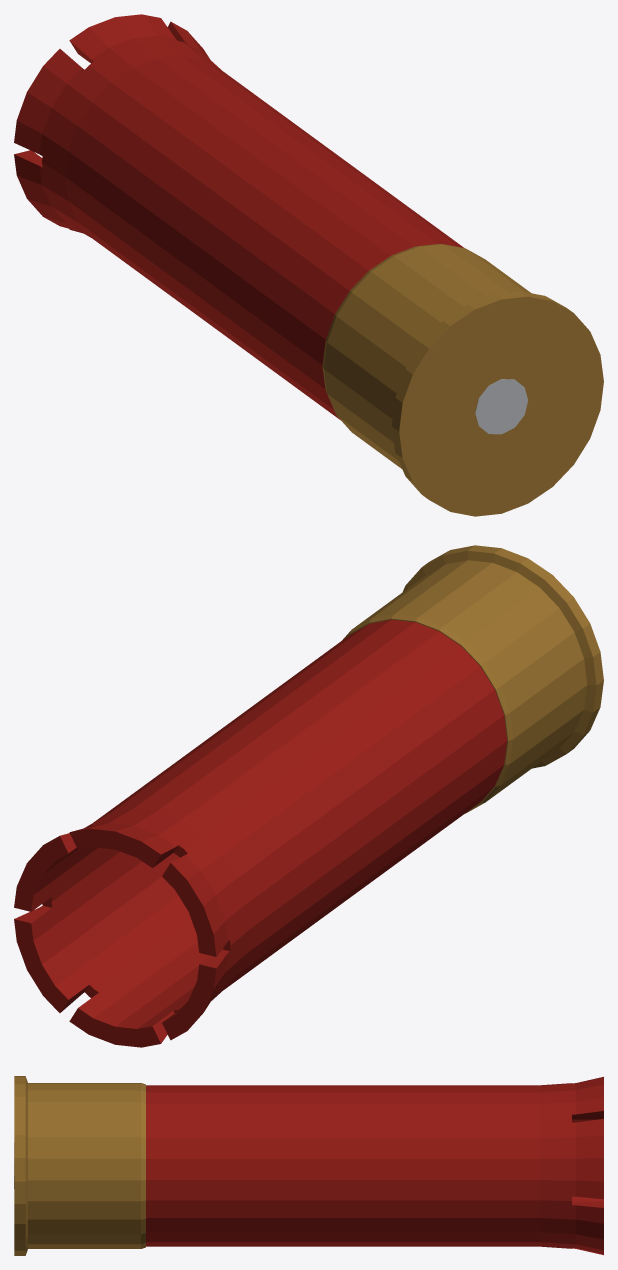
The model's file is estojo_12.glb.
3 views of the same model, one above another, from view 1: azimuth 30°, elevation 25°; view 2: azimuth 150°, elevation 25°; view 3: azimuth 270°, elevation 25° (orthographic). The views are drawn at different scales.
Parts seen in each view (by area): view 1: estojo_12_casca_vermelha, estojo_12_latao, estojo_12_aco_inox; view 2: estojo_12_casca_vermelha, estojo_12_latao; view 3: estojo_12_casca_vermelha, estojo_12_latao.
Part boxes in pixels (bbox=[...]): estojo_12_casca_vermelha: bbox=[14, 14, 464, 419]; estojo_12_latao: bbox=[322, 244, 603, 516]; estojo_12_aco_inox: bbox=[475, 379, 528, 434]; estojo_12_casca_vermelha: bbox=[14, 619, 507, 1047]; estojo_12_latao: bbox=[342, 545, 603, 813]; estojo_12_casca_vermelha: bbox=[146, 1076, 603, 1255]; estojo_12_latao: bbox=[14, 1076, 145, 1255].
Bounding box in the file's own units: 0.0225 × 0.0225 × 0.0736.
